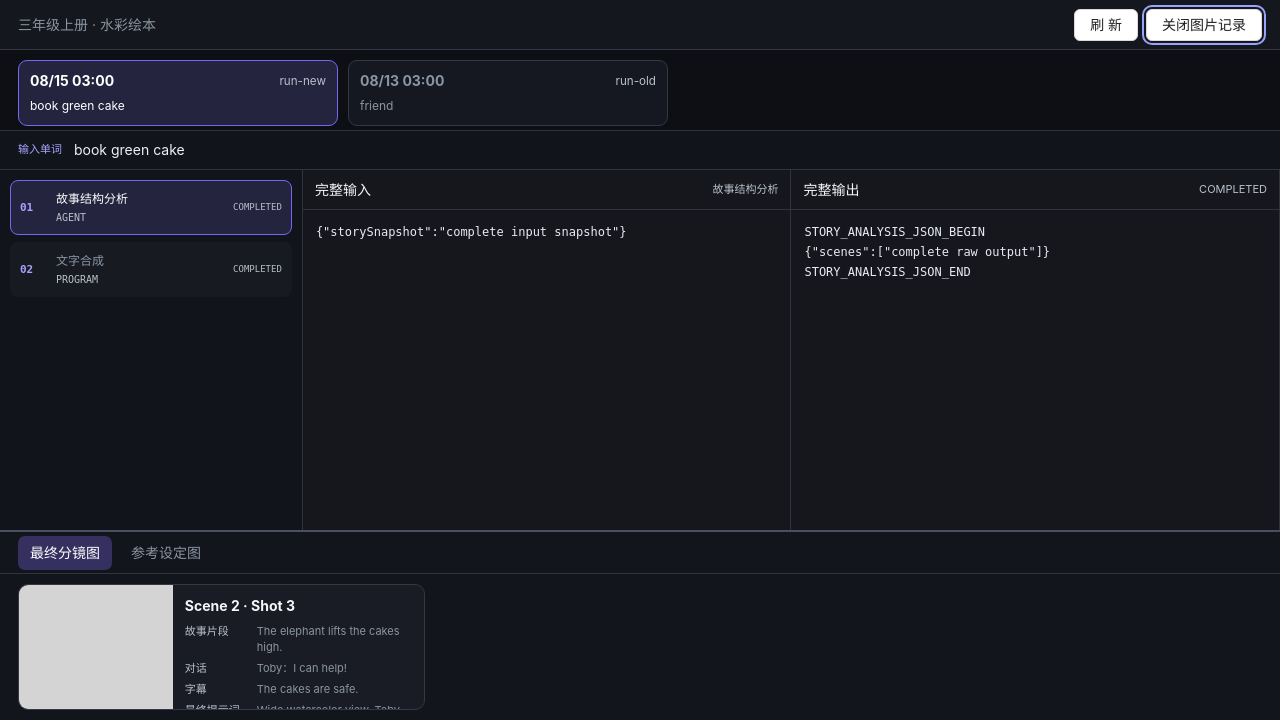
Test: ImageRunHistory › defaults to final shots, switches to references, and exposes all shot context without extra controls
Check: the text "Scene 2 · Shot 3" is shown, box [185,597,295,614]
Check: the text "The elephant lifts the cakes high." is shown, box [257,624,412,656]
Click the tab "参考设定图" at [166, 552], box [119,536,213,570]
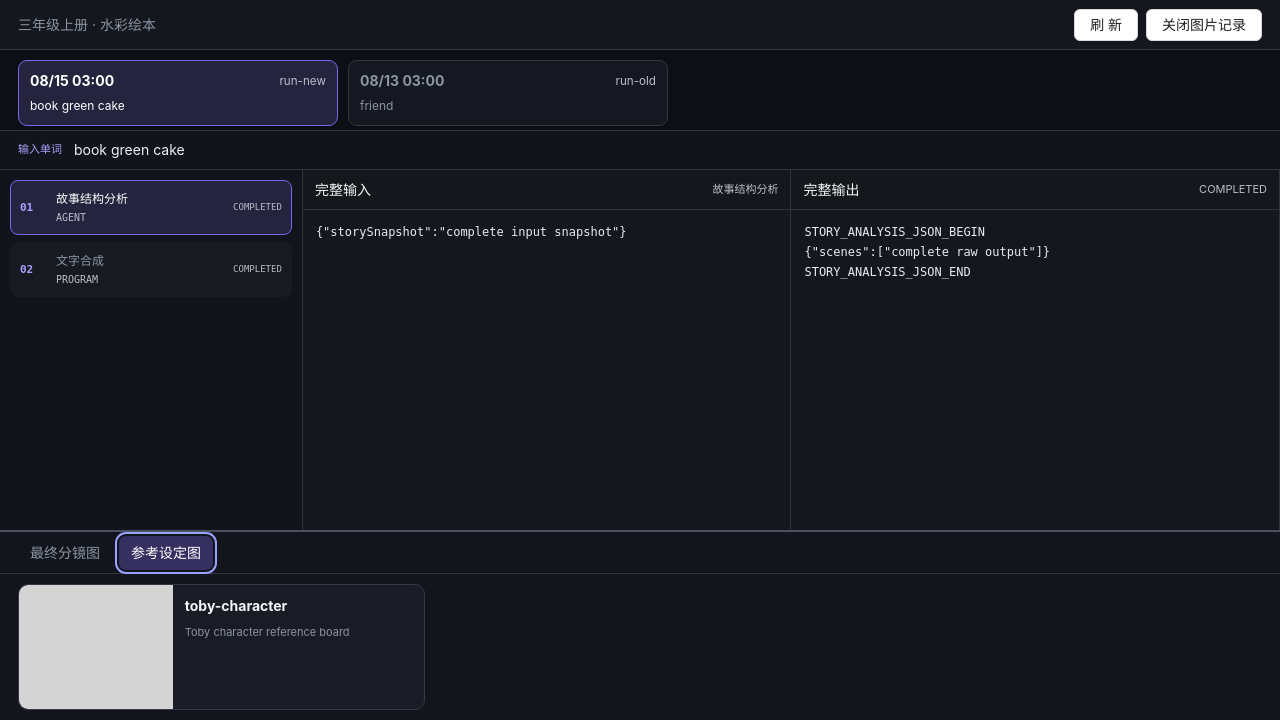
Check: the text "Toby character reference board" is shown, box [185,625,350,639]
